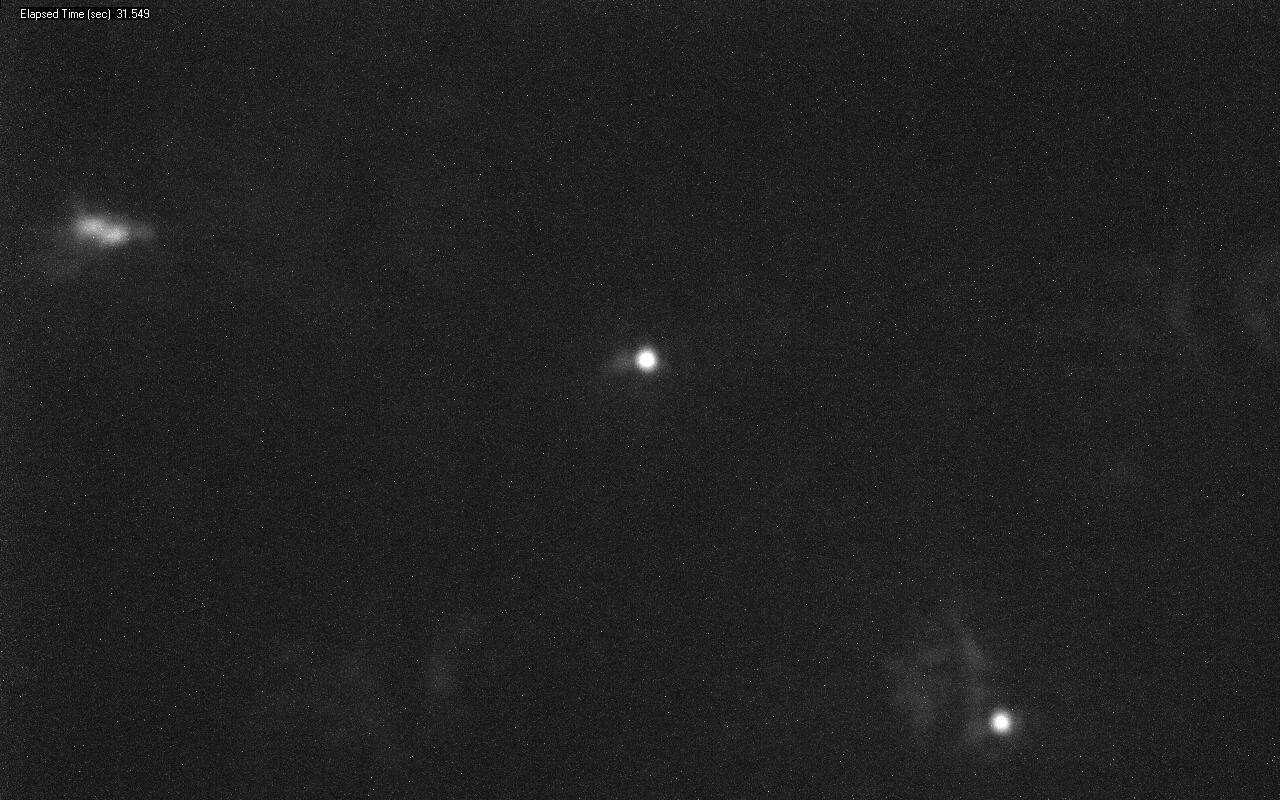Bead: (636, 348, 657, 372), (990, 712, 1010, 733)
